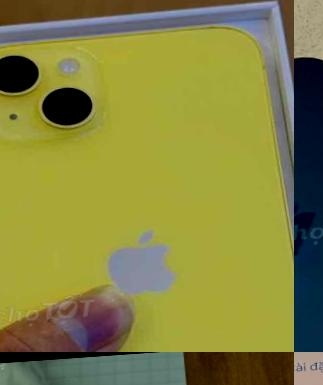scratch: (294, 177, 323, 279)
